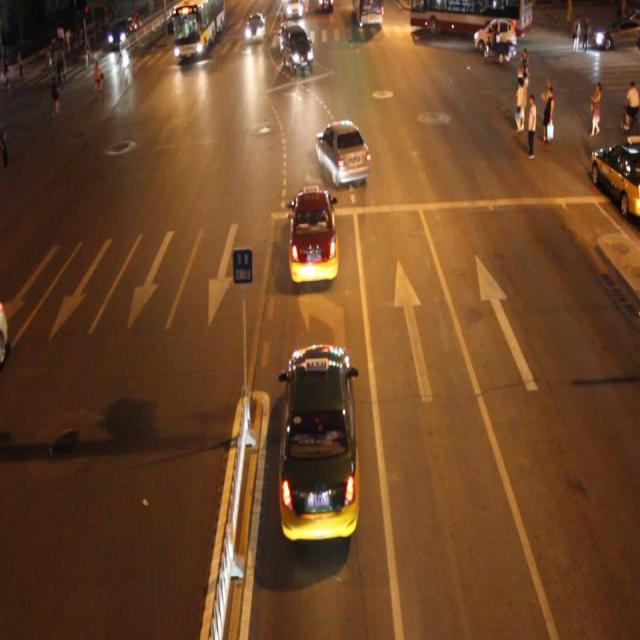car: (279, 344, 358, 540), (287, 188, 339, 284), (315, 119, 370, 187), (280, 28, 314, 75)
